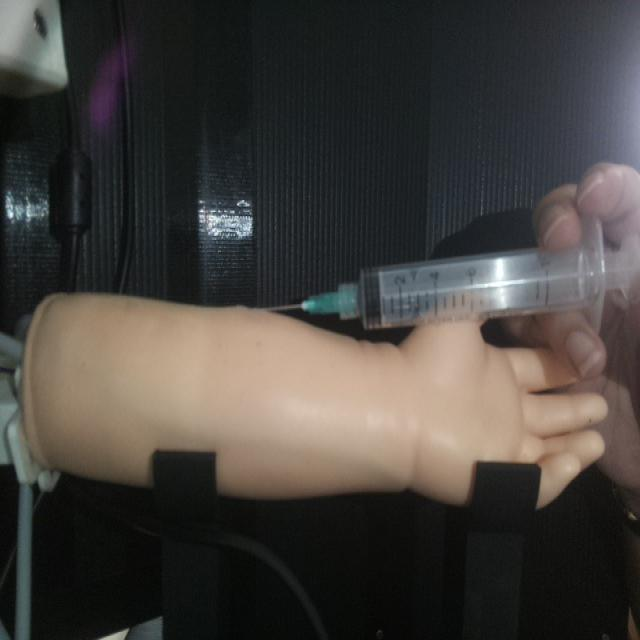Outside: (256, 212, 640, 332)
